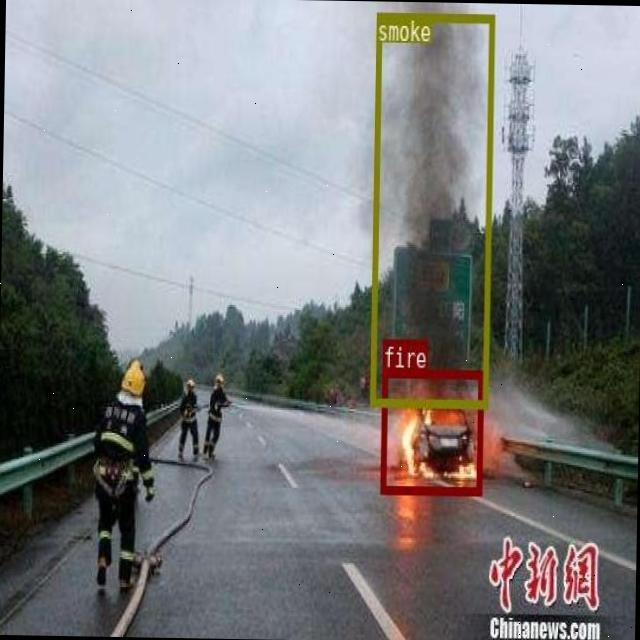fire: (380, 368, 482, 494)
smoke: (369, 11, 494, 407)
